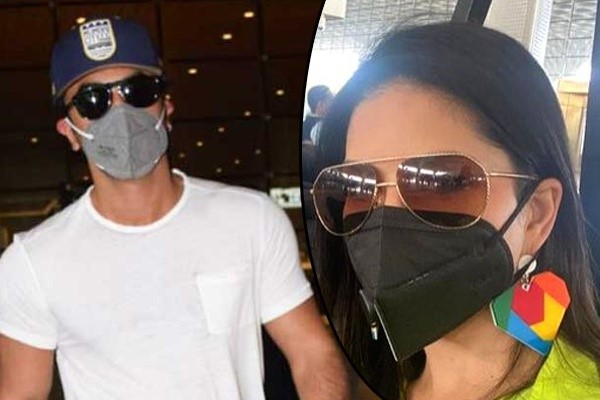face_with_mask: (312, 23, 566, 366), (47, 12, 176, 180)
